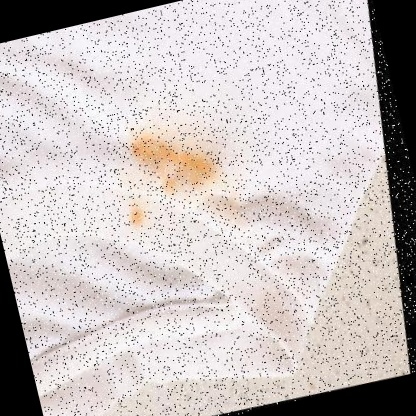kimchi: (128, 126, 223, 207), (124, 196, 162, 232)
